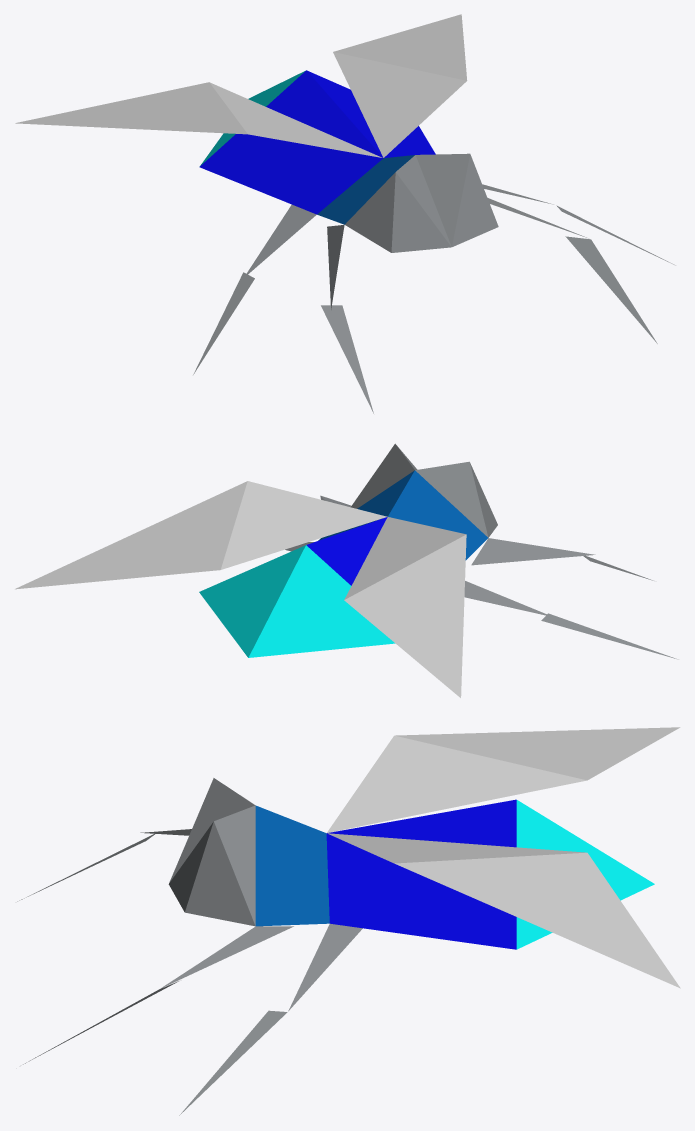
Rendered from fly.obj.
The picture shows the model from 3 angles, top to bottom: view 1: azimuth 30°, elevation 25°; view 2: azimuth 150°, elevation 25°; view 3: azimuth 270°, elevation 25°; orthographic projection. The views are drawn at different scales.
Parts seen in each view (by area): view 1: ORG_FLY; view 2: ORG_FLY; view 3: ORG_FLY.
Boxes of the visible parts, x1,y1,x2,y2 form: ORG_FLY: (15,14,675,413); ORG_FLY: (15,443,678,697); ORG_FLY: (17,727,680,1115).
Bounding box in the file's own units: 3.84 × 1.2 × 3.88.
1 material, 1 textured.
